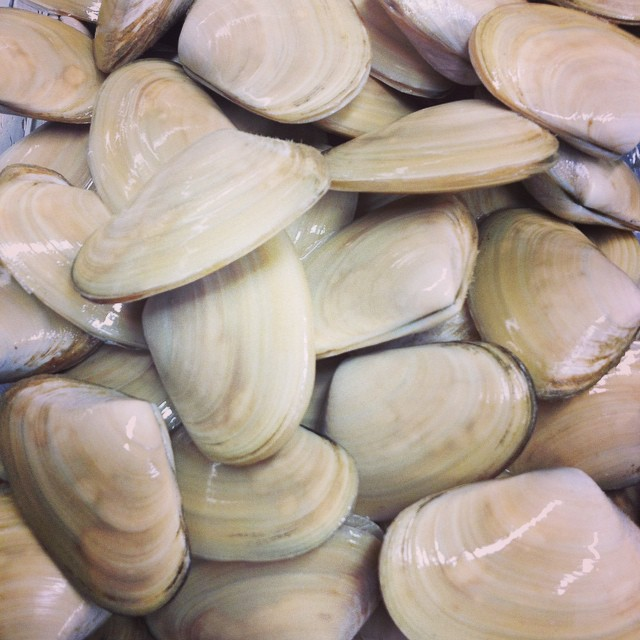tuatua: (3, 372, 192, 615), (373, 465, 640, 637), (71, 130, 330, 306), (139, 213, 317, 464), (472, 205, 637, 406), (326, 347, 539, 492), (308, 195, 473, 357), (470, 4, 640, 158), (174, 424, 357, 560), (2, 172, 141, 351), (177, 1, 373, 127), (323, 100, 555, 191), (93, 57, 200, 188), (1, 9, 102, 128), (535, 142, 640, 230)
